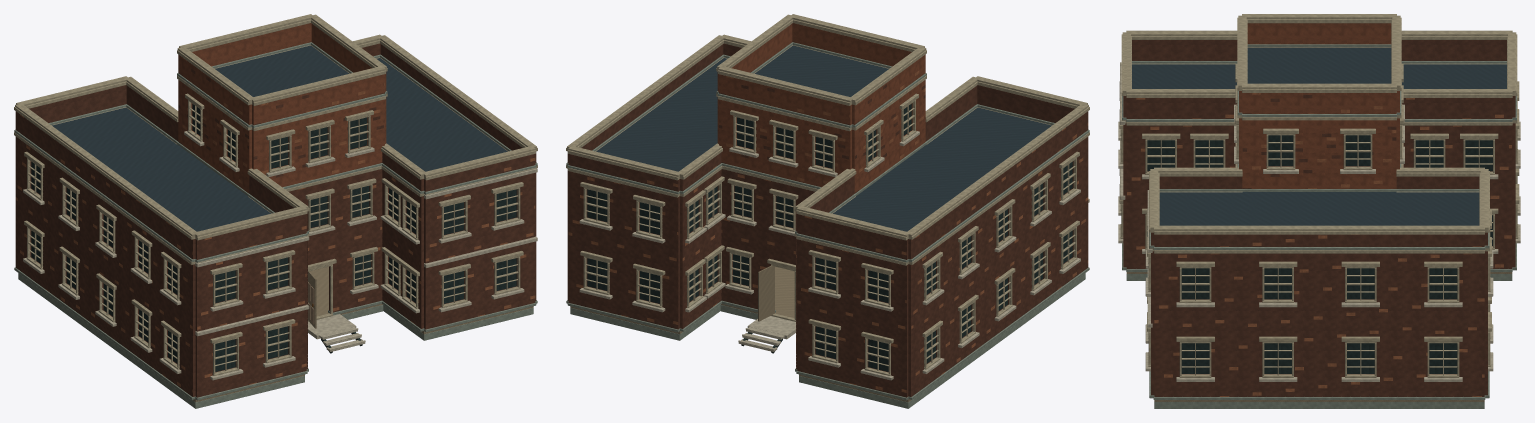
The picture shows the model from 3 angles, left to right: view 1: azimuth 30°, elevation 25°; view 2: azimuth 150°, elevation 25°; view 3: azimuth 270°, elevation 25°; orthographic projection. The views are drawn at different scales.
Parts seen in each view (by area): view 1: A009-17_02_Masonry_Facing, A009-17_01_Wall_Shell, A009-17_04_Architectural_Trim, A009-17_03_Window_Door_Frames, A009-17_11_Roof_Left_Wing, A009-17_06_Glazing, A009-17_12_Roof_Edges, A009-17_11_Roof_Right_Wing, A009-17_11_Roof_Tall_Link, A009-17_00_Foundation, A009-17_07_Floors, A009-17_08_Stairs; view 2: A009-17_02_Masonry_Facing, A009-17_01_Wall_Shell, A009-17_04_Architectural_Trim, A009-17_03_Window_Door_Frames, A009-17_11_Roof_Left_Wing, A009-17_06_Glazing, A009-17_12_Roof_Edges, A009-17_11_Roof_Right_Wing, A009-17_11_Roof_Tall_Link, A009-17_00_Foundation, A009-17_07_Floors, A009-17_05_Door_Leaf_01 (+1 smaller); view 3: A009-17_02_Masonry_Facing, A009-17_01_Wall_Shell, A009-17_04_Architectural_Trim, A009-17_12_Roof_Edges, A009-17_11_Roof_Right_Wing, A009-17_06_Glazing, A009-17_03_Window_Door_Frames, A009-17_11_Roof_Tall_Link, A009-17_11_Roof_Left_Wing, A009-17_00_Foundation, A009-17_07_Floors.
Part boxes in pixels (<box>): A009-17_02_Masonry_Facing: <box>15,54,535,397</box>; A009-17_01_Wall_Shell: <box>16,23,536,397</box>; A009-17_04_Architectural_Trim: <box>14,19,537,400</box>; A009-17_03_Window_Door_Frames: <box>26,100,520,375</box>; A009-17_11_Roof_Left_Wing: <box>52,107,270,231</box>; A009-17_06_Glazing: <box>31,104,516,371</box>; A009-17_12_Roof_Edges: <box>15,14,536,237</box>; A009-17_11_Roof_Right_Wing: <box>376,58,507,171</box>; A009-17_11_Roof_Tall_Link: <box>215,45,349,96</box>; A009-17_00_Foundation: <box>18,273,533,408</box>; A009-17_07_Floors: <box>192,266,533,402</box>; A009-17_08_Stairs: <box>319,327,365,351</box>; A009-17_02_Masonry_Facing: <box>568,54,1088,397</box>; A009-17_01_Wall_Shell: <box>567,23,1087,397</box>; A009-17_04_Architectural_Trim: <box>566,19,1089,400</box>; A009-17_03_Window_Door_Frames: <box>583,100,1077,375</box>; A009-17_11_Roof_Left_Wing: <box>833,107,1051,231</box>; A009-17_06_Glazing: <box>587,104,1072,371</box>; A009-17_12_Roof_Edges: <box>567,14,1088,237</box>; A009-17_11_Roof_Right_Wing: <box>596,58,727,171</box>; A009-17_11_Roof_Tall_Link: <box>754,45,888,96</box>; A009-17_00_Foundation: <box>570,273,1085,408</box>; A009-17_07_Floors: <box>570,266,911,402</box>; A009-17_05_Door_Leaf_01: <box>758,265,774,321</box>; A009-17_02_Masonry_Facing: <box>1127,93,1511,396</box>; A009-17_01_Wall_Shell: <box>1123,23,1515,396</box>; A009-17_04_Architectural_Trim: <box>1118,17,1520,399</box>; A009-17_12_Roof_Edges: <box>1122,14,1516,230</box>; A009-17_11_Roof_Right_Wing: <box>1159,192,1479,225</box>; A009-17_06_Glazing: <box>1147,135,1492,373</box>; A009-17_03_Window_Door_Frames: <box>1120,82,1518,377</box>; A009-17_11_Roof_Tall_Link: <box>1247,47,1391,83</box>; A009-17_11_Roof_Left_Wing: <box>1132,64,1506,88</box>; A009-17_00_Foundation: <box>1126,274,1512,408</box>; A009-17_07_Floors: <box>1126,272,1512,401</box>.
Size of the model in its own units: 16.62 by 10.69 by 14.62.
12 materials, 12 textured.
